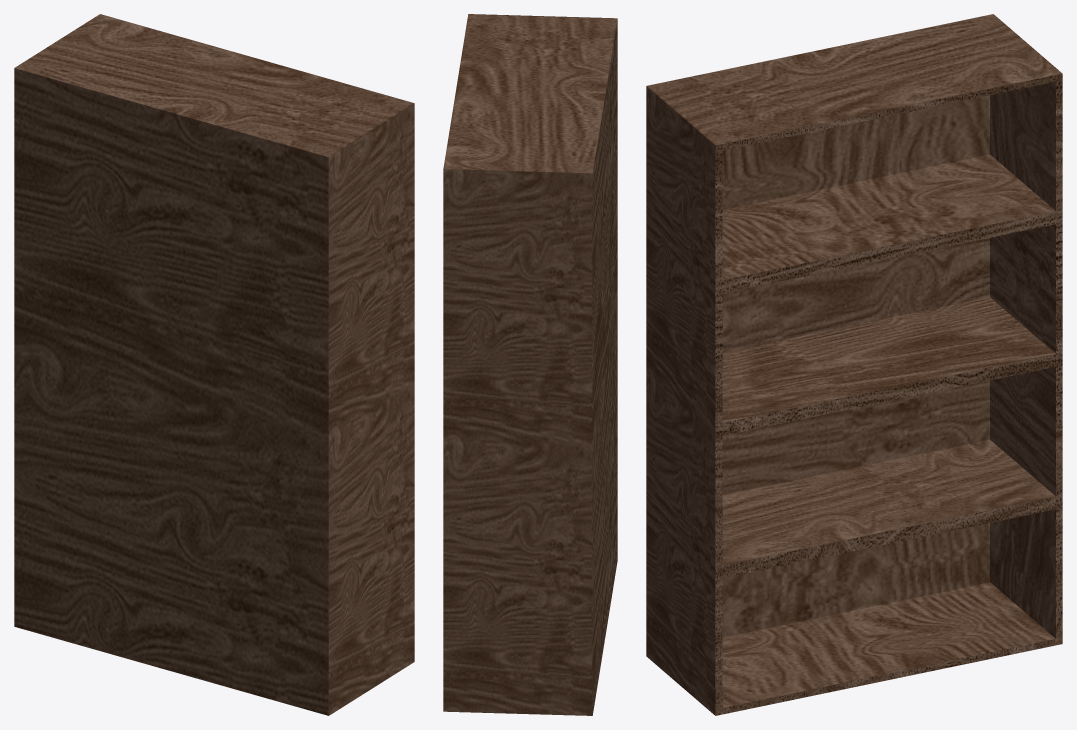
Rendered from Bookshelf.fbx.
3 views of the same model, side by side, from view 1: azimuth 30°, elevation 25°; view 2: azimuth 150°, elevation 25°; view 3: azimuth 270°, elevation 25° (orthographic). The views are drawn at different scales.
Visible parts, largest first — view 1: Bookshelf:Bookshelf; view 2: Bookshelf:Bookshelf; view 3: Bookshelf:Bookshelf.
Boxes of the visible parts, <box> form: Bookshelf:Bookshelf: <box>14,14,414,715</box>; Bookshelf:Bookshelf: <box>443,14,617,715</box>; Bookshelf:Bookshelf: <box>646,14,1062,715</box>.
Bounding box in the file's own units: 1.4 × 2.83 × 1.88.
